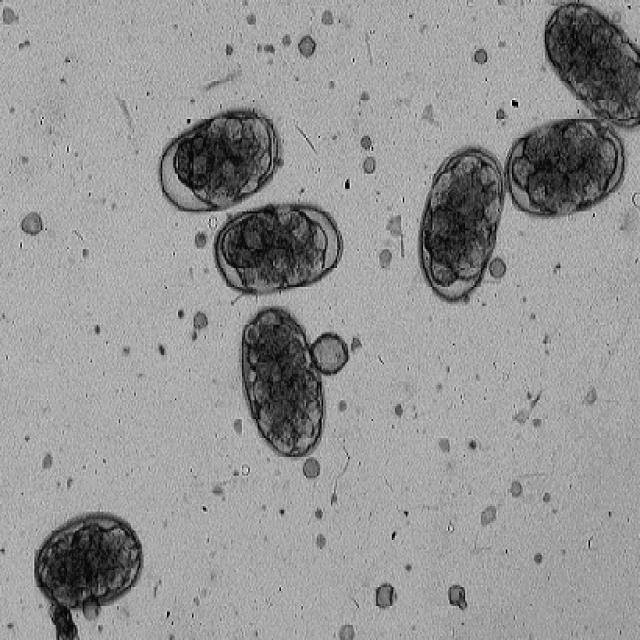Ancylostoma Spp: (234, 297, 331, 469), (148, 98, 284, 219), (416, 134, 505, 317), (210, 199, 352, 305), (503, 112, 629, 220), (26, 507, 148, 618), (536, 4, 638, 132)
